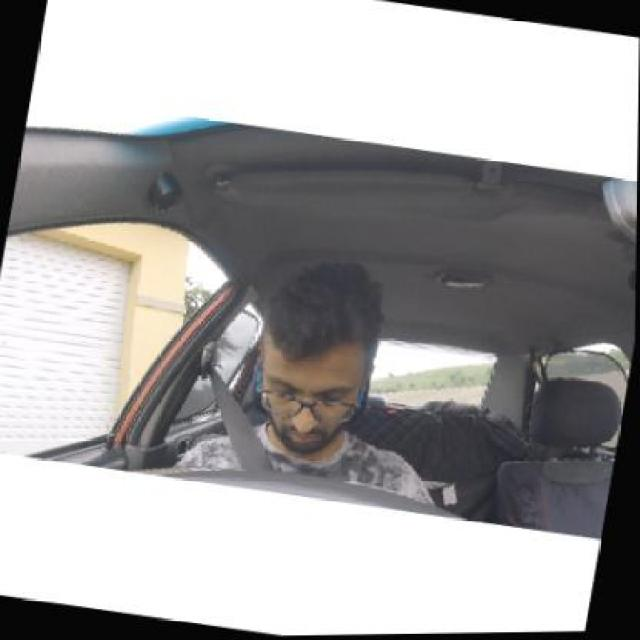drowsy: (262, 264, 376, 456)
